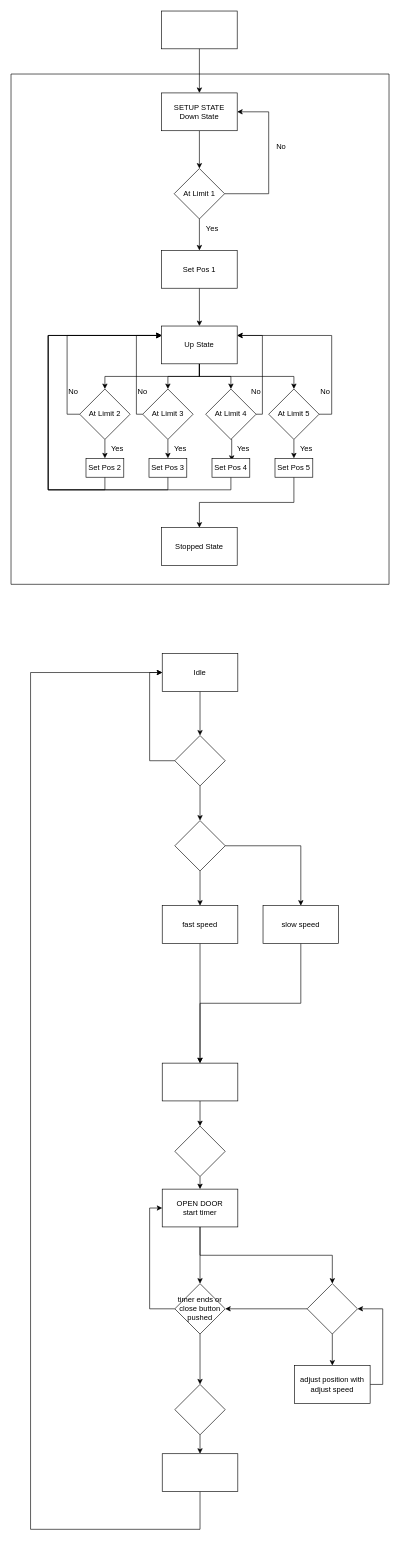
The diagram is 400 pixels wide and 1545 high, and some of its shapes have lost their labels. The box of each missing label's shape, as (x1, y1, x2, y2) in pixels:
Close Door: (162, 1453, 238, 1492)
direction Button Pushed: (174, 735, 225, 786)
Go to Target Floor: (162, 1062, 238, 1101)
Safe To Close: (174, 1384, 225, 1435)
Safe To Open: (174, 1125, 225, 1177)
Setup: (10, 73, 389, 584)
START: (161, 10, 237, 49)
Target floor too far: (174, 820, 225, 871)
wrong position: (306, 1283, 358, 1334)
